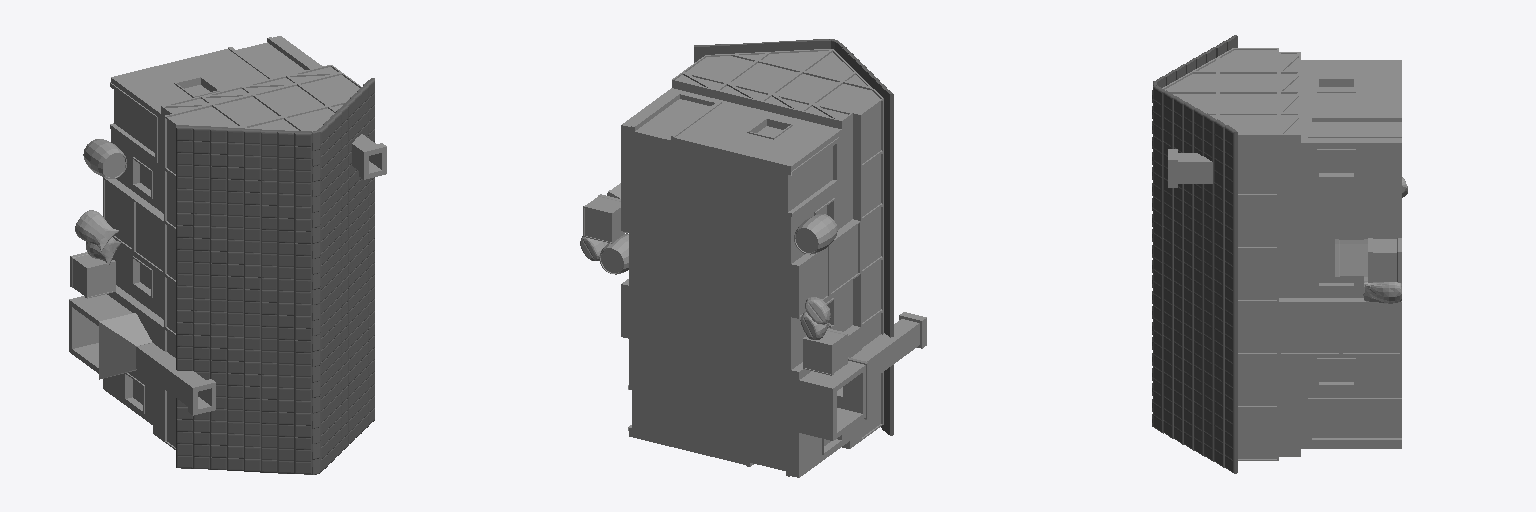
File: casa-medieval.obj
The picture shows the model from 3 angles: view 1: azimuth 30°, elevation 25°; view 2: azimuth 150°, elevation 25°; view 3: azimuth 270°, elevation 25°; orthographic projection.
Visible parts, largest first — view 1: Grupo_1_003, Grupo_1_001, Grupo_3_001, SquareBox01_001, Barrel_001, Grupo_4_001, GrainSack01_002; view 2: Grupo_1_003, Grupo_1_001, Grupo_3_001, SquareBox01_001, SquareBox01_002, Barrel_001, Barrel_002; view 3: Grupo_1_001, Grupo_1_003, SquareBox01_002, Grupo_4_001, SquareBox01_003, GrainSack01_003.
Boxes of the visible parts, box(x1,y1,x2,y2) form: Grupo_1_003: box(103, 57, 302, 449); Grupo_1_001: box(192, 36, 360, 131); Grupo_3_001: box(69, 294, 215, 415); SquareBox01_001: box(70, 252, 115, 298); Barrel_001: box(83, 139, 126, 178); Grupo_4_001: box(351, 134, 386, 179); GrainSack01_002: box(75, 210, 118, 251); Grupo_1_003: box(710, 49, 883, 477); Grupo_1_001: box(621, 49, 831, 455); Grupo_3_001: box(798, 312, 926, 440); SquareBox01_001: box(803, 328, 847, 375); SquareBox01_002: box(583, 194, 627, 243); Barrel_001: box(794, 214, 837, 254); Barrel_002: box(599, 234, 628, 274); Grupo_1_001: box(1168, 91, 1401, 460); Grupo_1_003: box(1162, 48, 1401, 99); SquareBox01_002: box(1368, 238, 1401, 282); Grupo_4_001: box(1168, 149, 1212, 187); SquareBox01_003: box(1335, 239, 1367, 276); GrainSack01_003: box(1363, 282, 1401, 303).
Size of the model in its own units: 245 by 311 by 211.